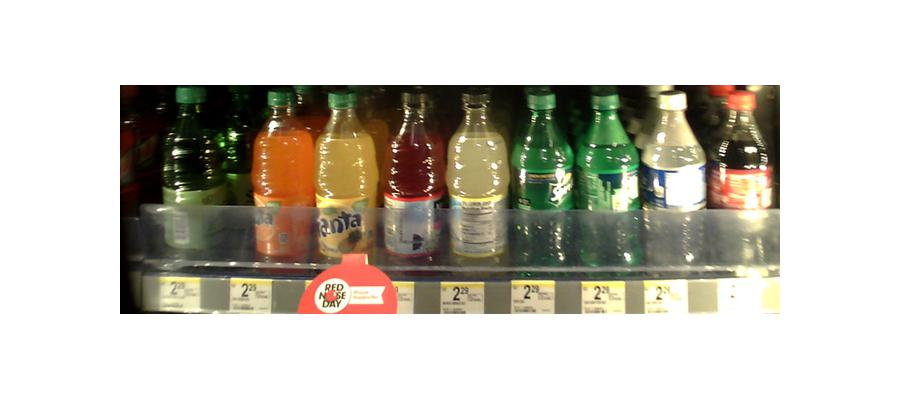bottle: (249, 83, 316, 266), (576, 86, 641, 274), (642, 85, 706, 272), (709, 87, 771, 274), (382, 89, 445, 270), (514, 87, 574, 268), (449, 90, 509, 270), (315, 90, 377, 263), (161, 88, 220, 264)
